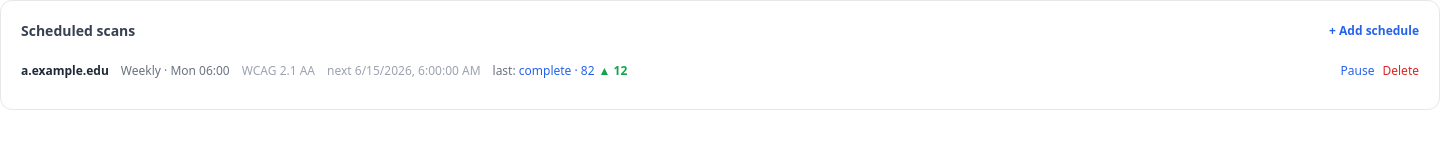
ScheduledScansCard › pause PATCHes enabled:false and refreshes
Click the button "Pause" at x=1358, y=71, box [1341,63,1374,79]
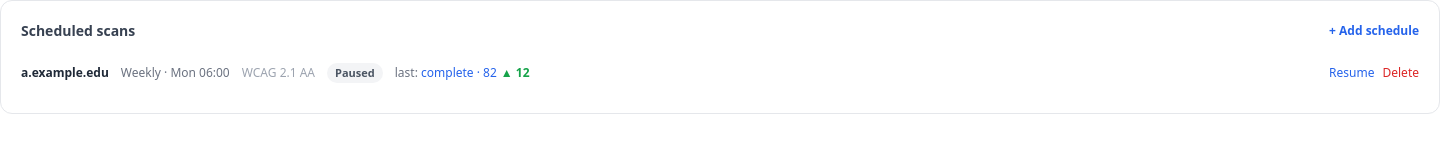
Expected: the text "Paused" is shown, [327,63,383,83]
